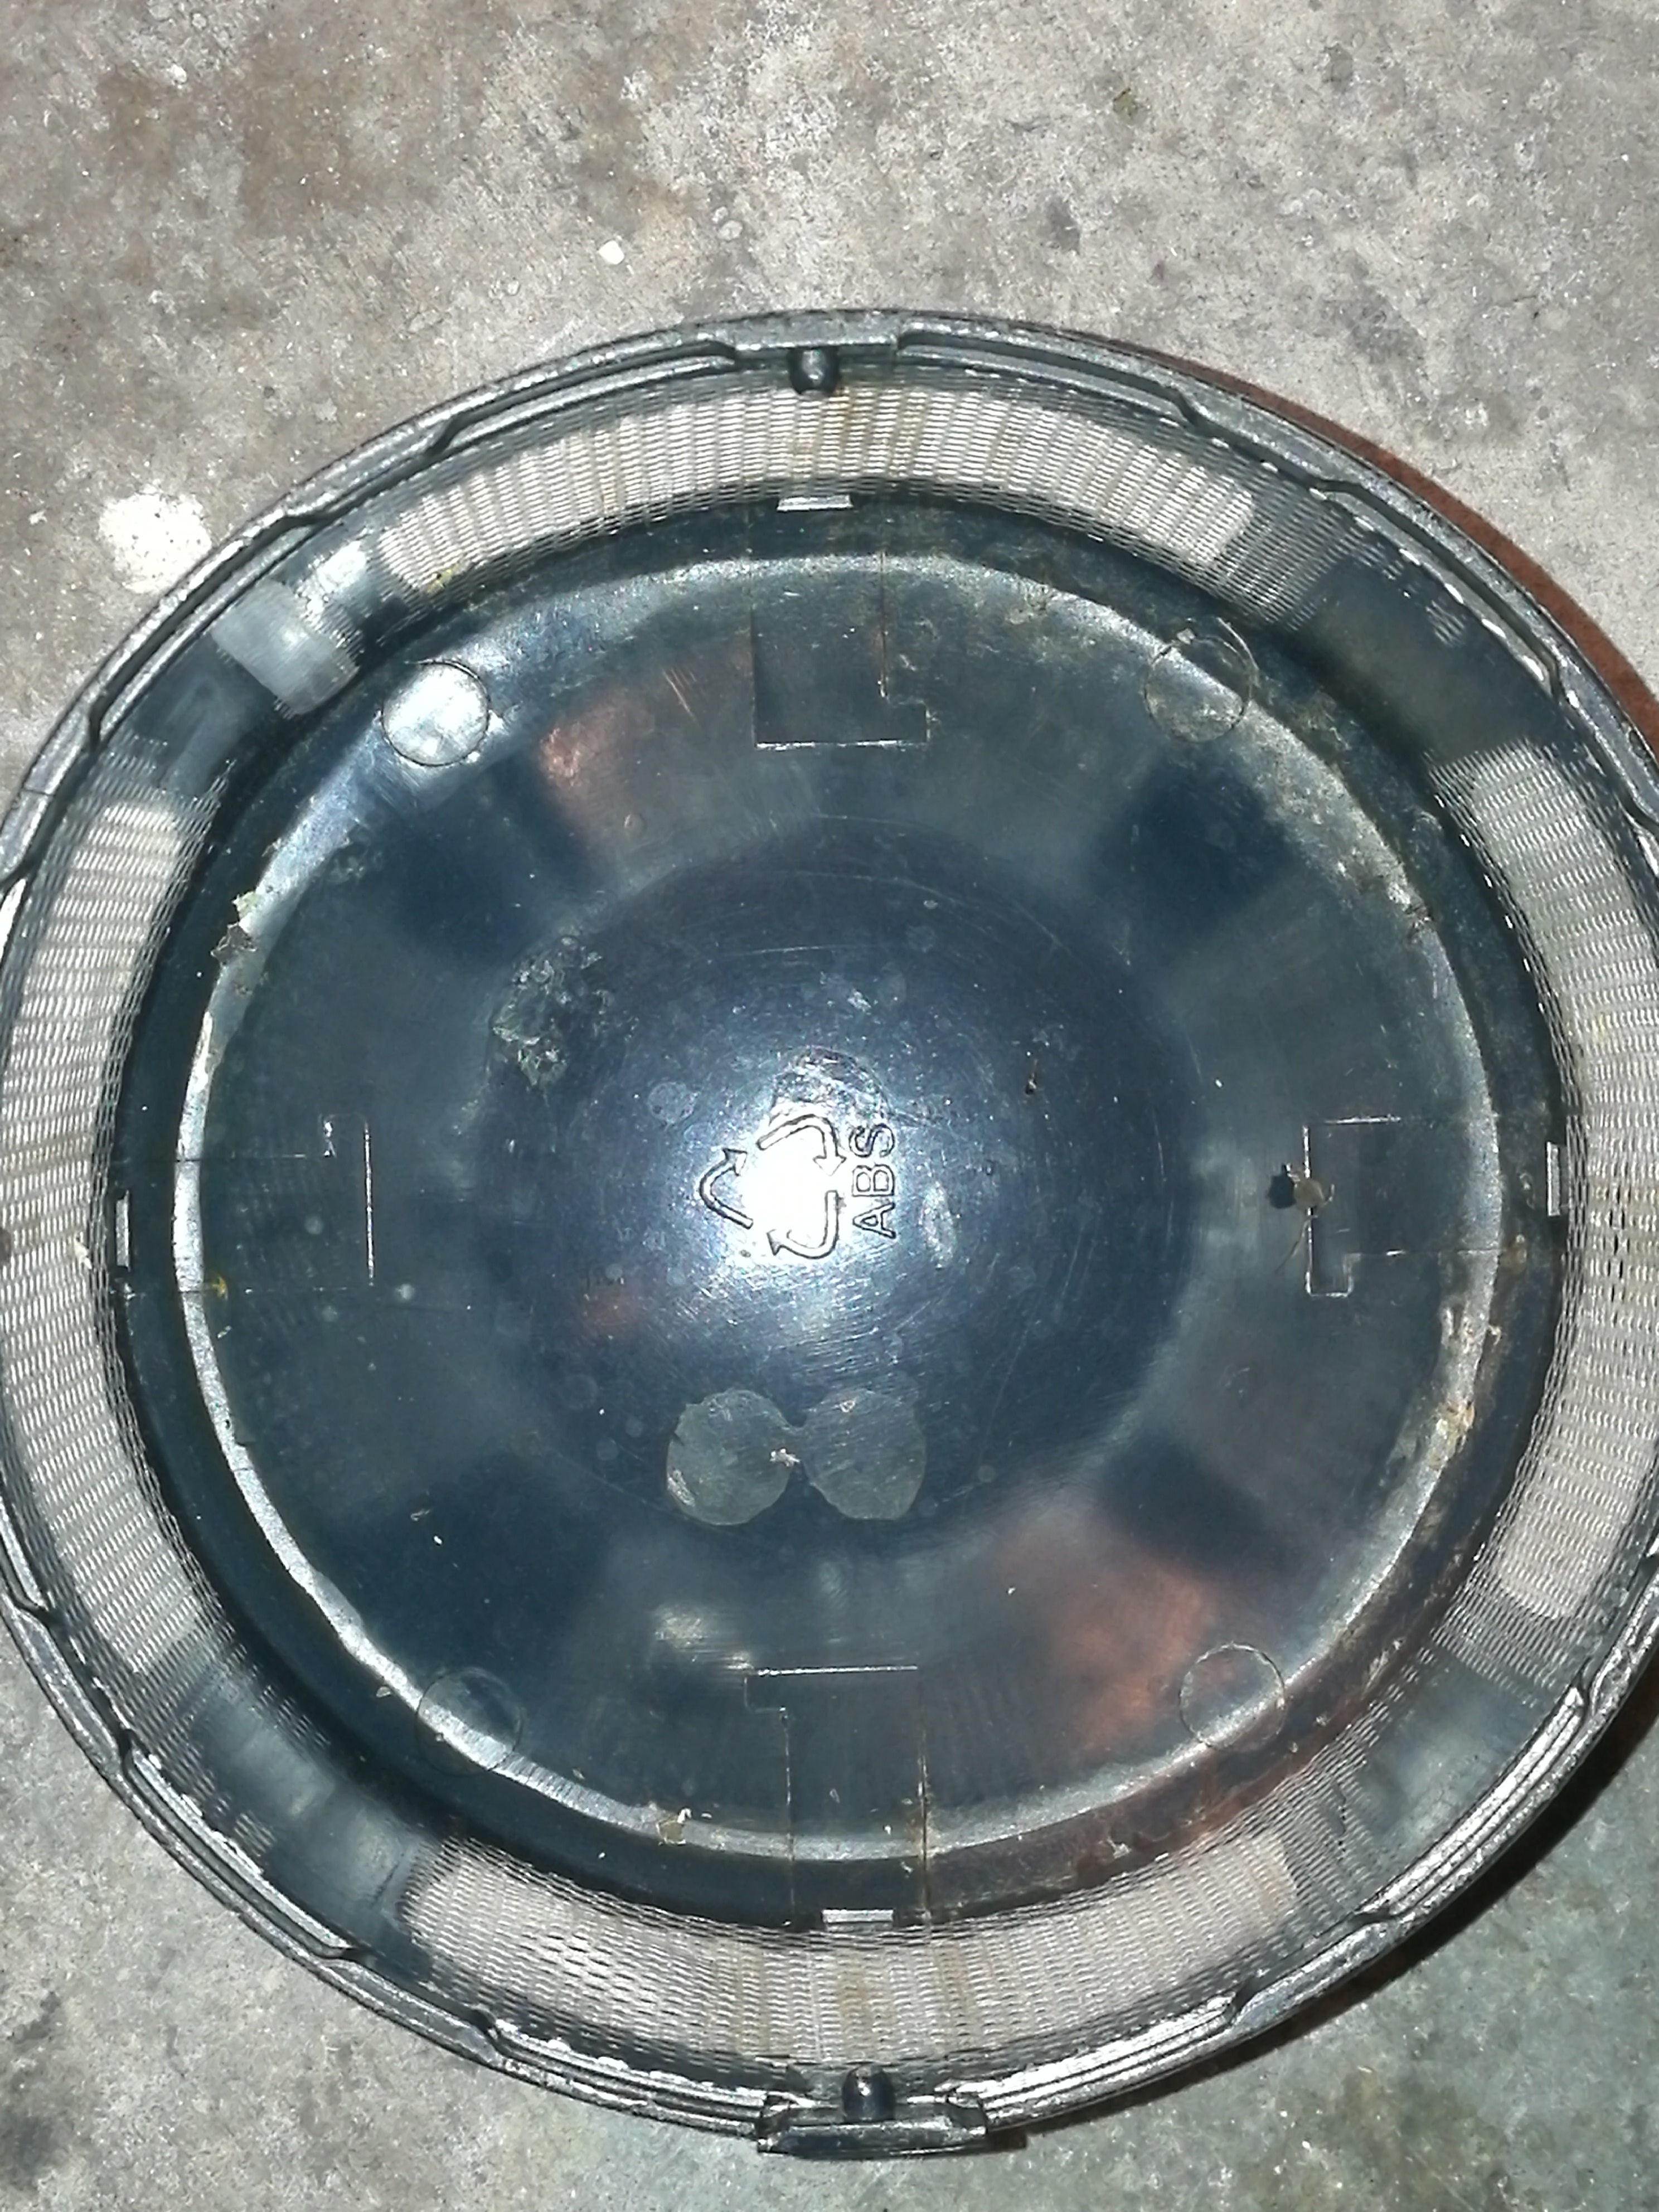moth: (1286, 1165, 1328, 1211), (211, 927, 258, 963)
